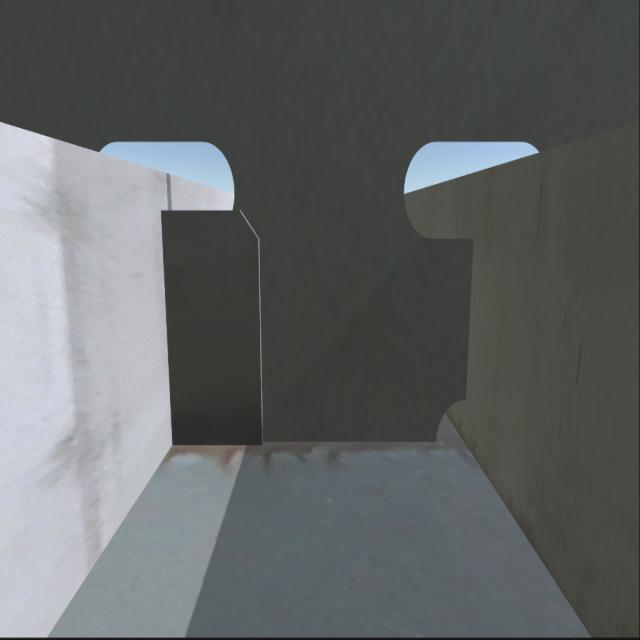fillet_hole: (433, 399, 468, 447)
fillet_yong_jeop_jang: (170, 438, 436, 454)
longi_yong_jeop_jang: (150, 202, 180, 455), (459, 237, 482, 400)
plate_CP03: (170, 212, 268, 442)
